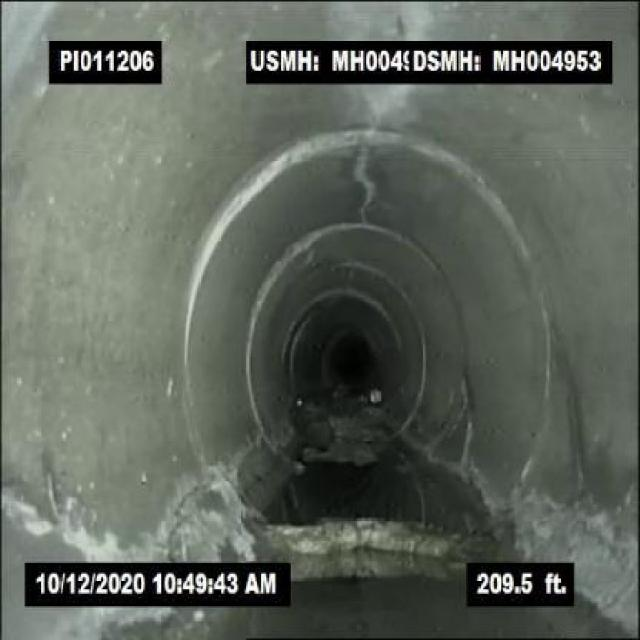Crack: (11, 475, 137, 560), (557, 332, 597, 500), (162, 471, 212, 555), (348, 139, 384, 223)
Debris: (240, 508, 485, 560)
